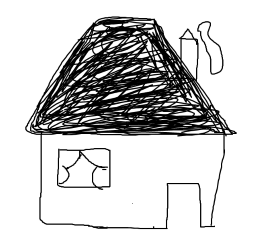door: (160, 178, 206, 234)
open_window: (51, 144, 116, 192)
shaded_roof: (16, 10, 239, 141)
smoking_chimney: (174, 15, 232, 82)
wall: (36, 128, 225, 233)
